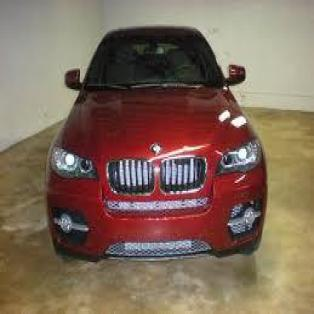Auto: (45, 21, 271, 257)
